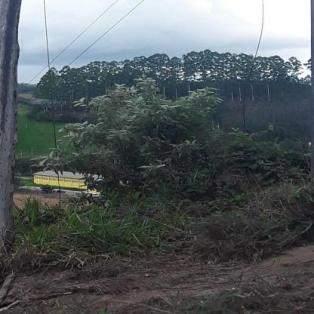Poste: (0, 0, 48, 280)
